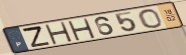5: (113, 11, 139, 33)
6: (95, 16, 116, 36)
H: (43, 21, 74, 45), (66, 18, 97, 41)
O: (137, 8, 165, 29)
Z: (20, 25, 52, 48)
